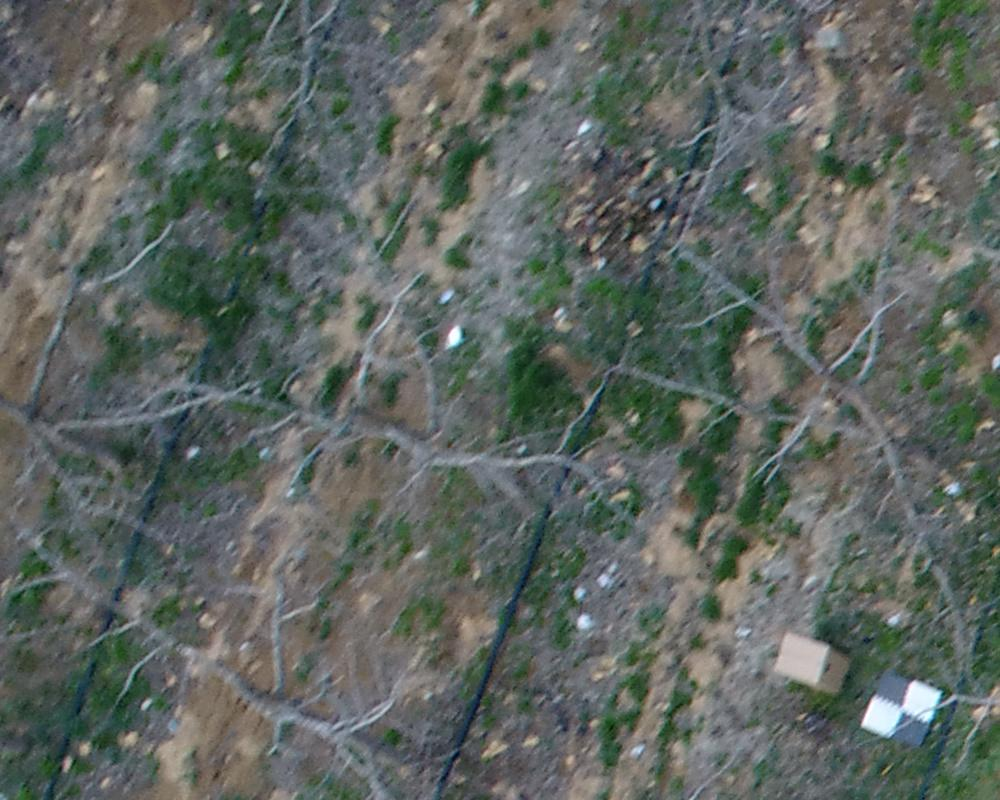apple: (582, 144, 990, 682), (137, 155, 634, 531), (35, 546, 458, 790)
